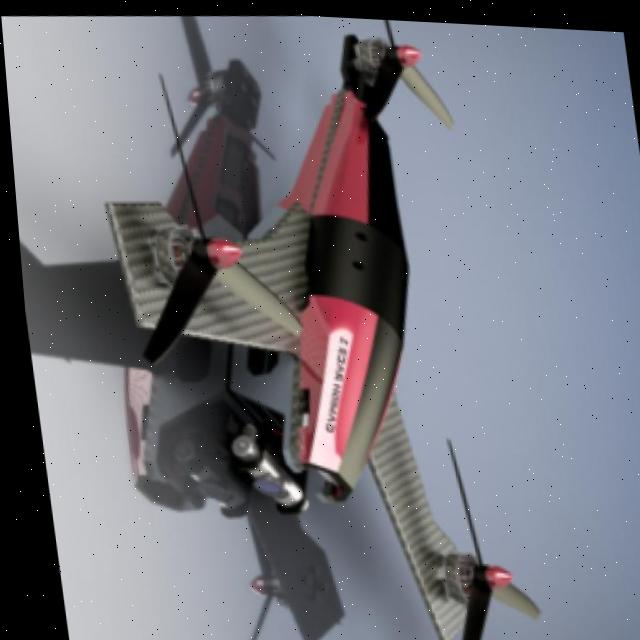drones: (52, 2, 556, 640)
